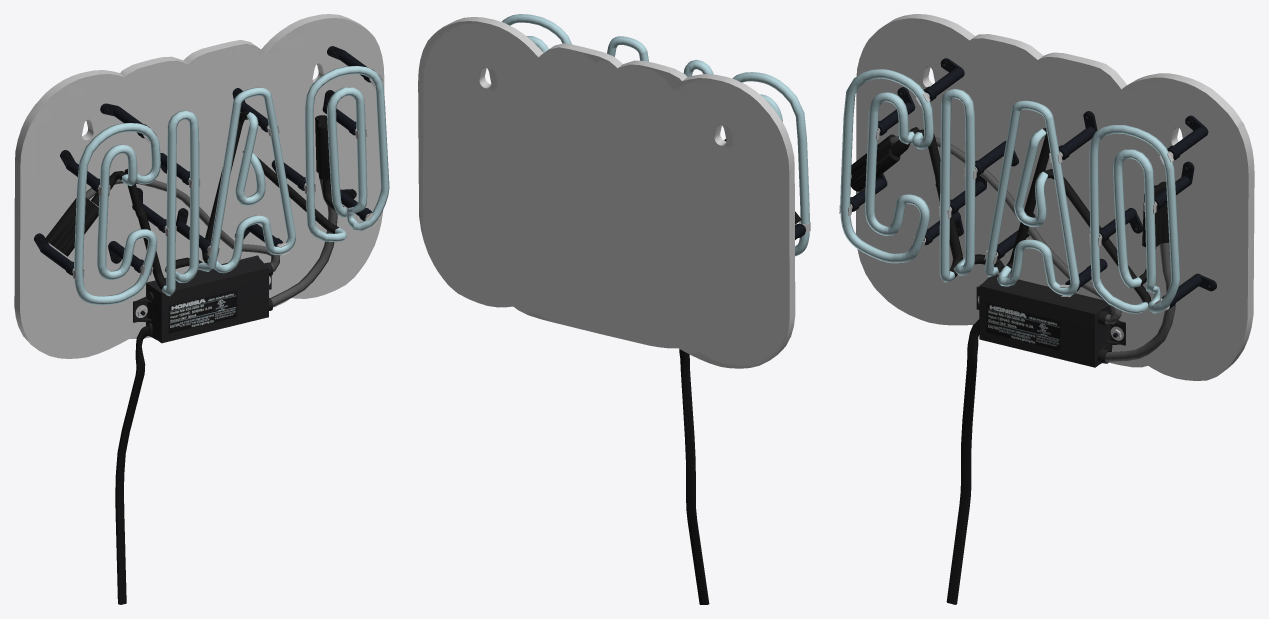
The model's file is B073NZS57V.glb.
The picture shows the model from 3 angles, left to right: view 1: azimuth 30°, elevation 25°; view 2: azimuth 150°, elevation 25°; view 3: azimuth 330°, elevation 25°; orthographic projection. The views are drawn at different scales.
Visible parts, largest first — view 1: RootNode; view 2: RootNode; view 3: RootNode.
Part boxes in pixels (box(x1,y1,x2,y2)): RootNode: box(14, 14, 389, 604); RootNode: box(418, 14, 810, 604); RootNode: box(839, 14, 1254, 604).
Size of the model in its own units: 0.2115 by 0.2939 by 0.0424.
1 material, 1 textured.
